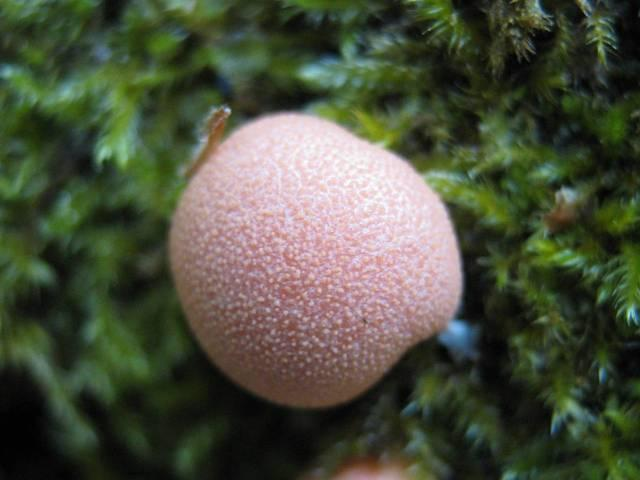Non-edible Mushroom: (165, 107, 464, 410)
